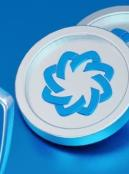ABB: (39, 50, 115, 118)
